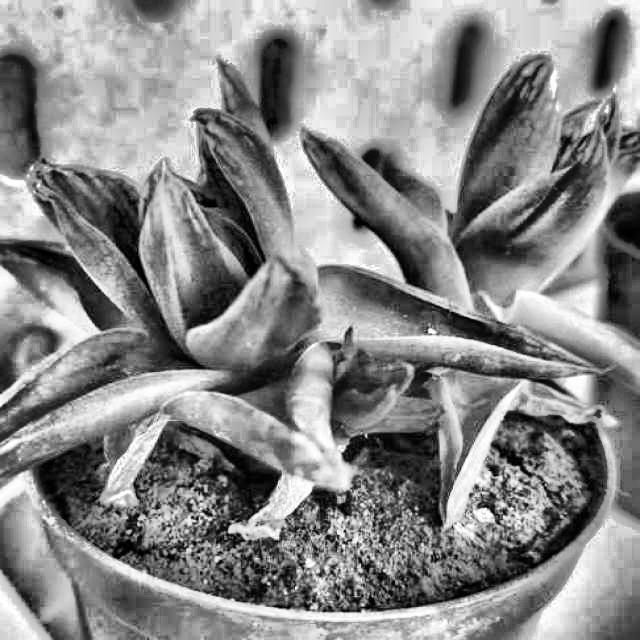plants: (0, 51, 639, 639), (89, 384, 626, 587)
